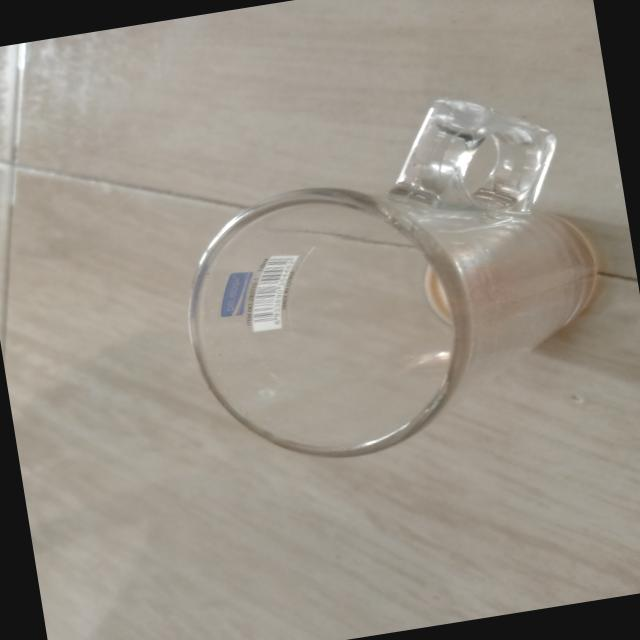glass-VX4N: (159, 76, 635, 493)
